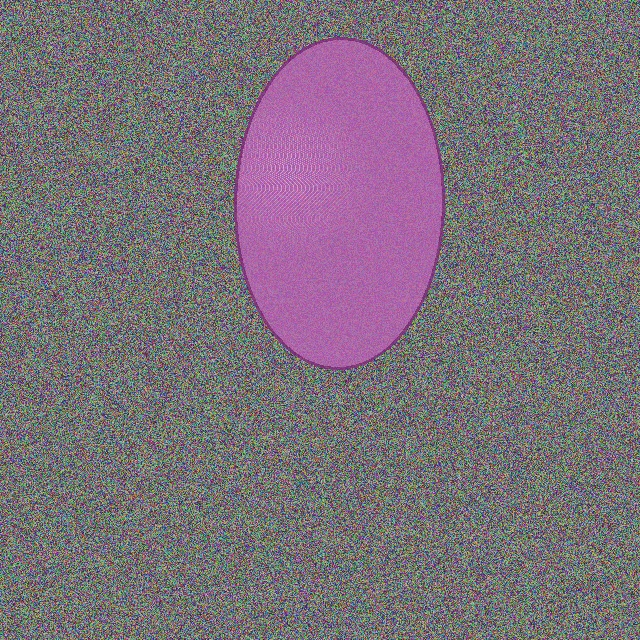lens: (235, 38, 443, 368)
